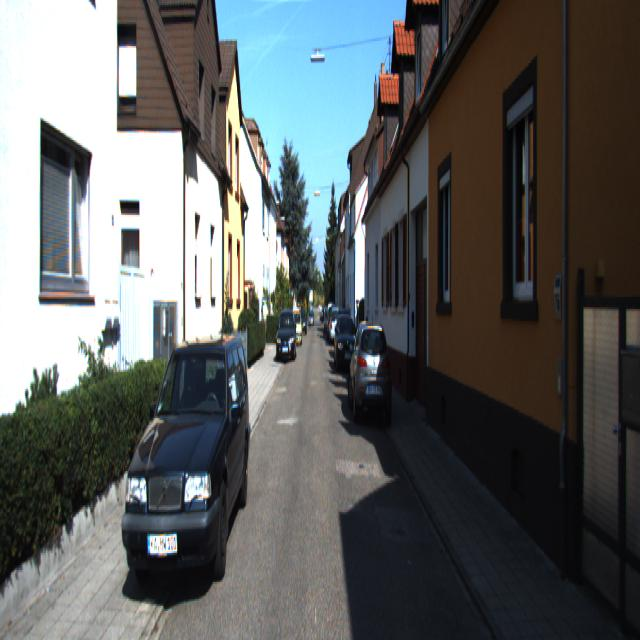Car: (122, 330, 251, 619), (348, 319, 391, 432), (335, 312, 358, 377), (276, 311, 296, 367), (328, 304, 342, 346)
